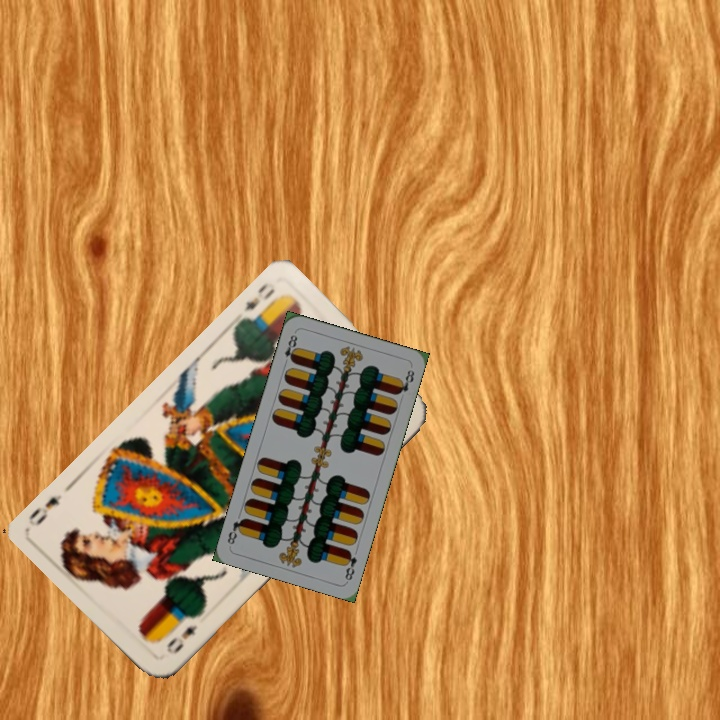E8: (280, 330, 300, 368), (340, 547, 360, 583)
EO: (239, 278, 278, 315), (162, 620, 200, 657)
